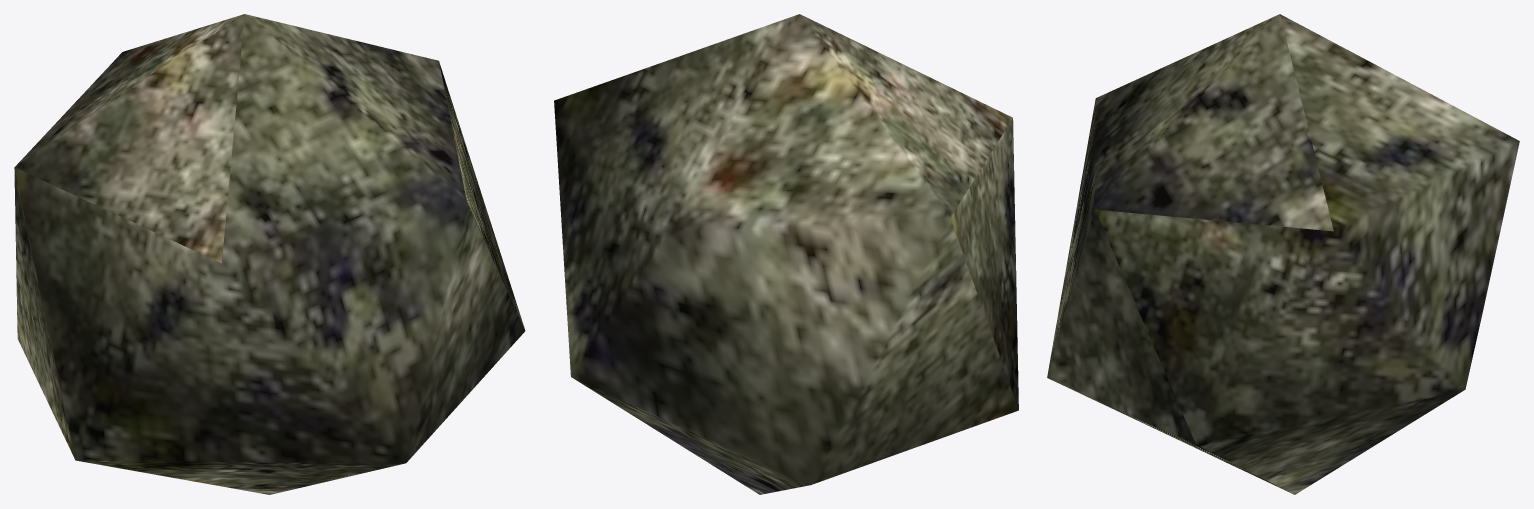
File: KM_FROG_ROCK.glb
3 renders of one model, left to right at view 1: azimuth 30°, elevation 25°; view 2: azimuth 150°, elevation 25°; view 3: azimuth 270°, elevation 25°, orthographic. The views are drawn at different scales.
Visible parts, largest first — view 1: Mesh; view 2: Mesh; view 3: Mesh.
Part boxes in pixels (left/top/right/bottom): Mesh: left=14, top=14, right=525, bottom=494; Mesh: left=554, top=14, right=1018, bottom=494; Mesh: left=1047, top=14, right=1519, bottom=494.
Bounding box in the file's own units: 0.0913 × 0.0996 × 0.0916.
1 material, 1 textured.
